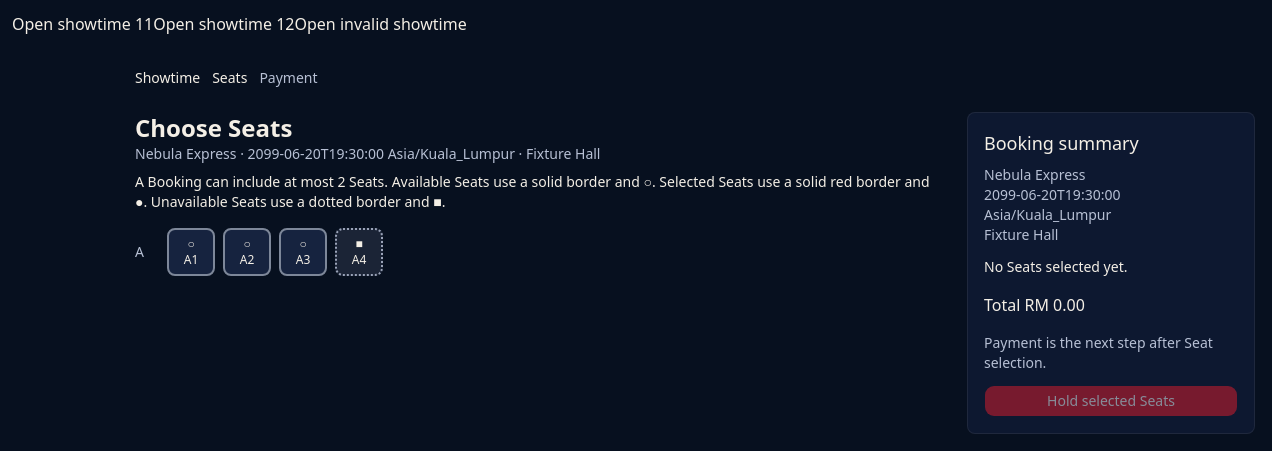
Test: SeatSelectionPage › refreshes authoritative availability after a Seat Availability event
Click the button named "Seat A1, available" at [191, 252], box [167,228,215,276]
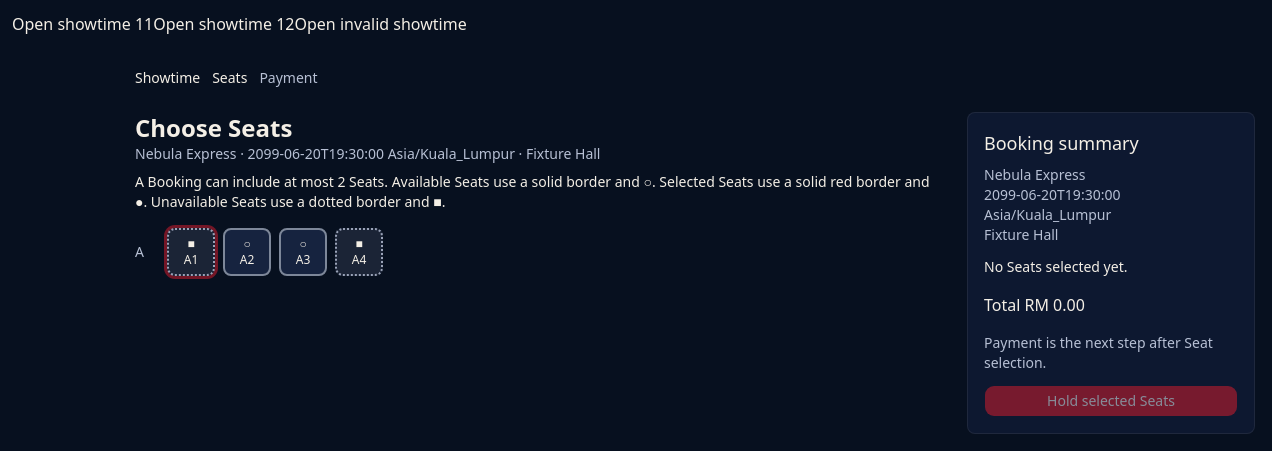
Expected: the button named "Seat A1, unavailable" is shown, [167,228,215,276]
